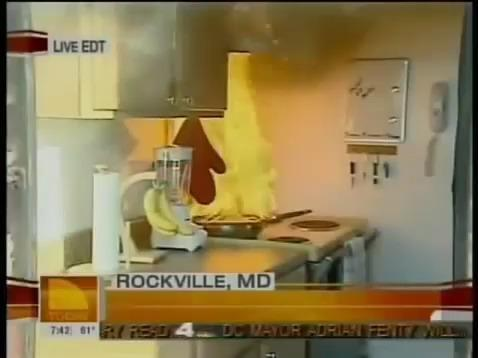fire: (173, 52, 281, 224)
